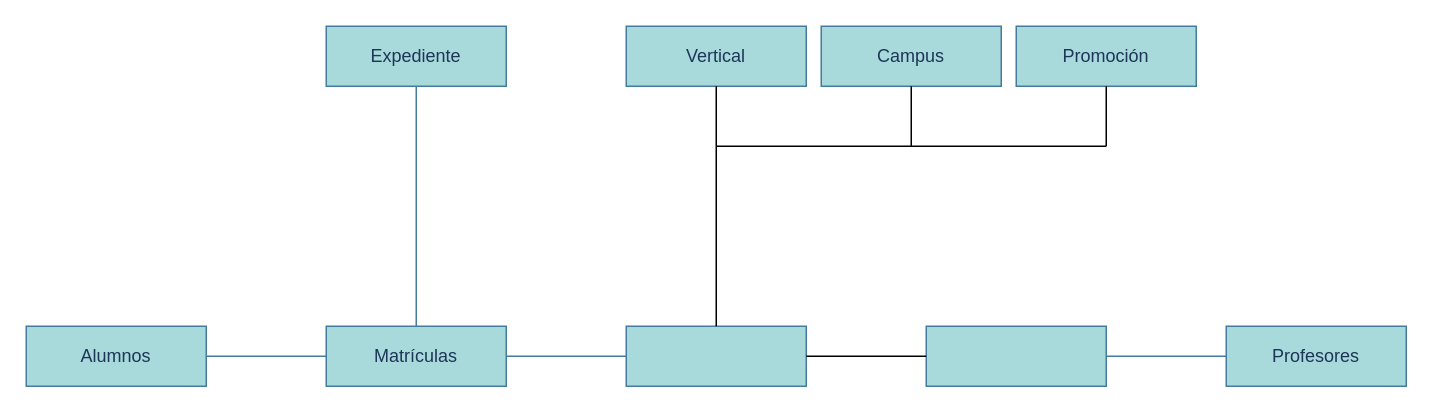
Some shapes in this 1433 by 413 pixel diagram are drawn without their labels. Each missing label, with the centre of its shape:
"Asignaciones" goes at point 1015,355.
"Clases" goes at point 715,355.
